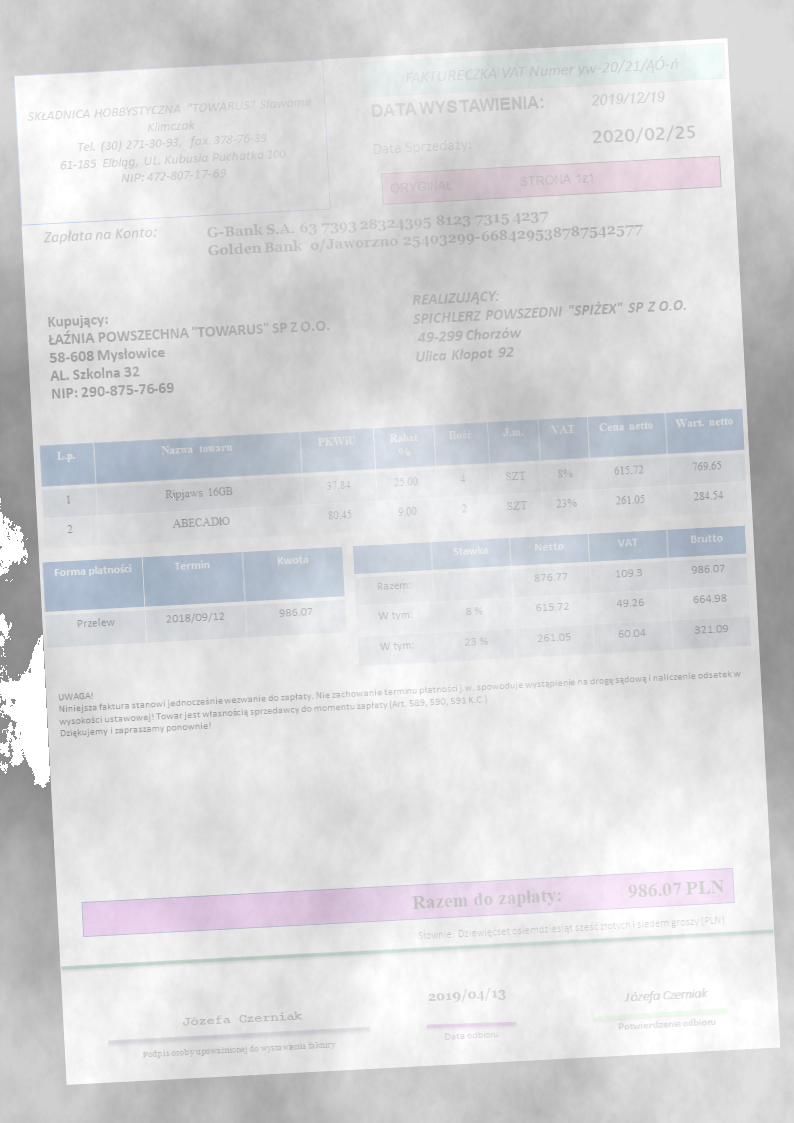Table: (37, 405, 748, 552), (352, 524, 754, 669), (41, 545, 347, 651)
TextBox: (55, 653, 745, 742), (44, 297, 335, 402), (22, 91, 320, 192), (203, 198, 646, 264), (409, 275, 692, 367), (409, 874, 726, 915), (400, 50, 683, 89), (415, 911, 729, 945), (386, 167, 599, 197), (367, 90, 547, 122), (139, 1036, 338, 1061), (589, 119, 699, 147), (370, 133, 474, 160), (42, 221, 158, 245), (179, 1008, 304, 1028), (587, 84, 670, 110), (619, 983, 711, 1006), (424, 983, 508, 1008), (615, 1014, 720, 1034), (440, 1026, 501, 1043)
